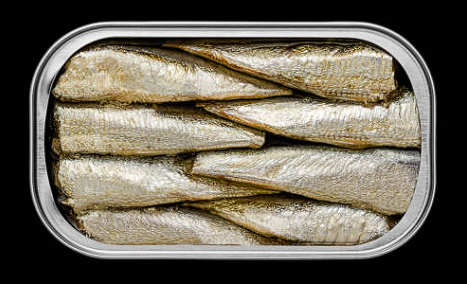Danificado: (28, 18, 439, 270)
